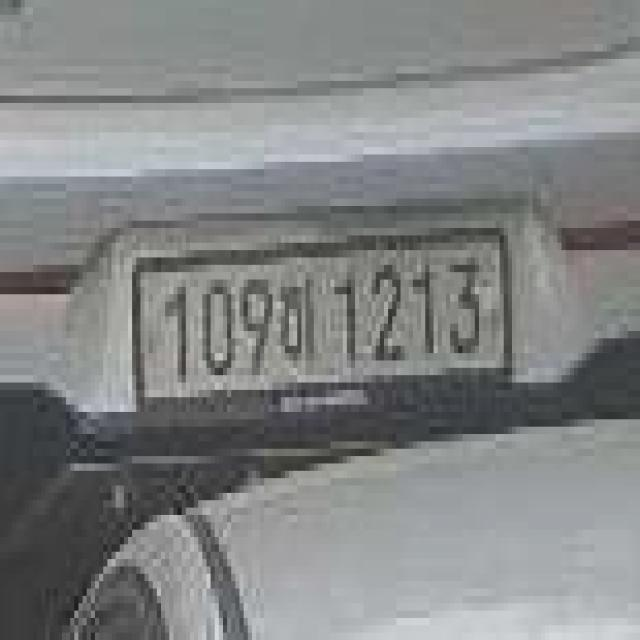illegal_plate: (129, 224, 518, 423)
